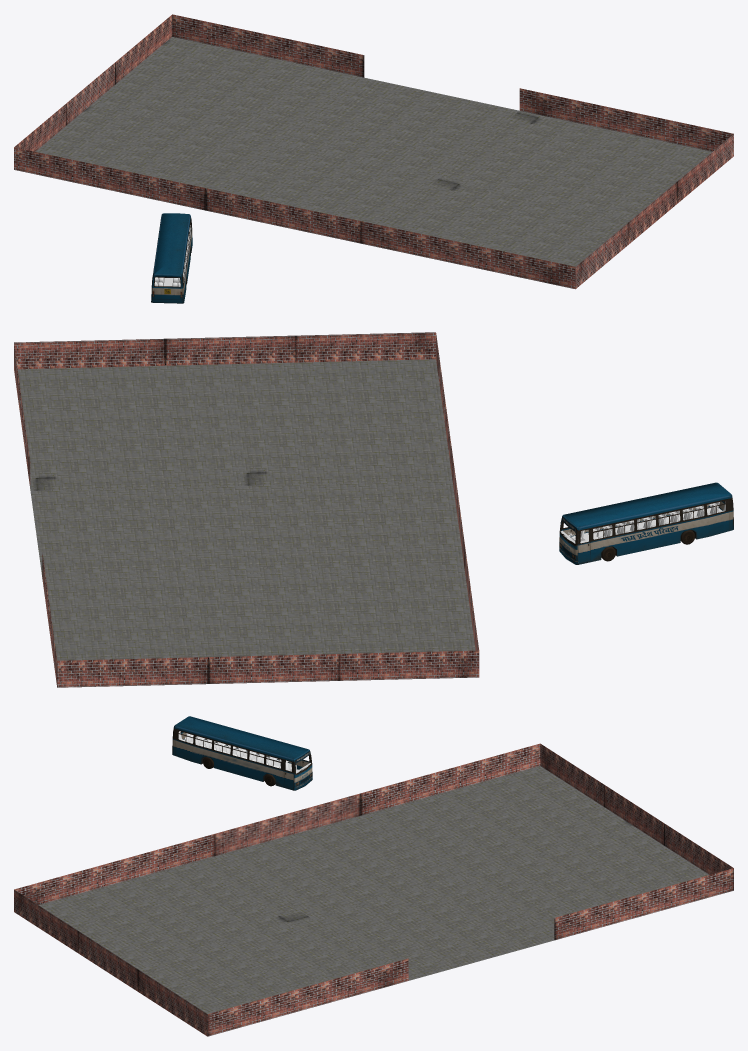
The model's file is Bus Station.fbx.
The picture shows the model from 3 angles, top to bottom: view 1: azimuth 30°, elevation 25°; view 2: azimuth 150°, elevation 25°; view 3: azimuth 270°, elevation 25°; orthographic projection. The views are drawn at different scales.
Visible parts, largest first — view 1: Bus Base, Bus body; view 2: Bus Base, Bus body, Chair_BI.001; view 3: Bus Base, Bus body, Chair_BI.001.
Boxes of the visible parts, bbox=[...] form: Bus Base: bbox=[14, 14, 733, 289]; Bus body: bbox=[151, 213, 192, 303]; Bus Base: bbox=[14, 332, 479, 687]; Bus body: bbox=[559, 482, 733, 564]; Chair_BI.001: bbox=[593, 502, 725, 538]; Bus Base: bbox=[14, 743, 733, 1036]; Bus body: bbox=[172, 716, 312, 790]; Chair_BI.001: bbox=[178, 731, 288, 767].
Bounding box in the file's own units: 8486 × 456 × 8936.
Materials: 3 (2 with a texture image).
